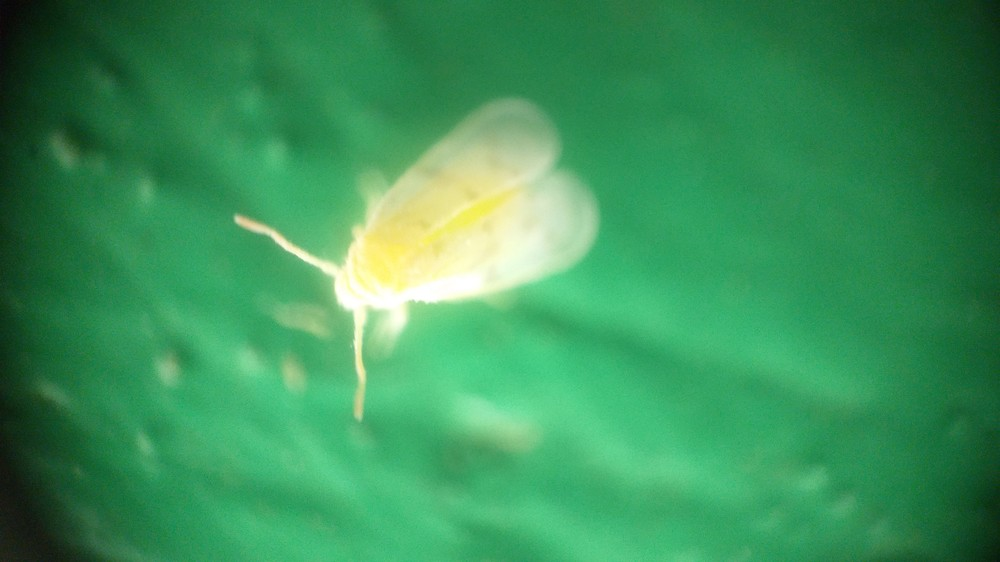Mosca Blanca: (224, 92, 615, 434)
